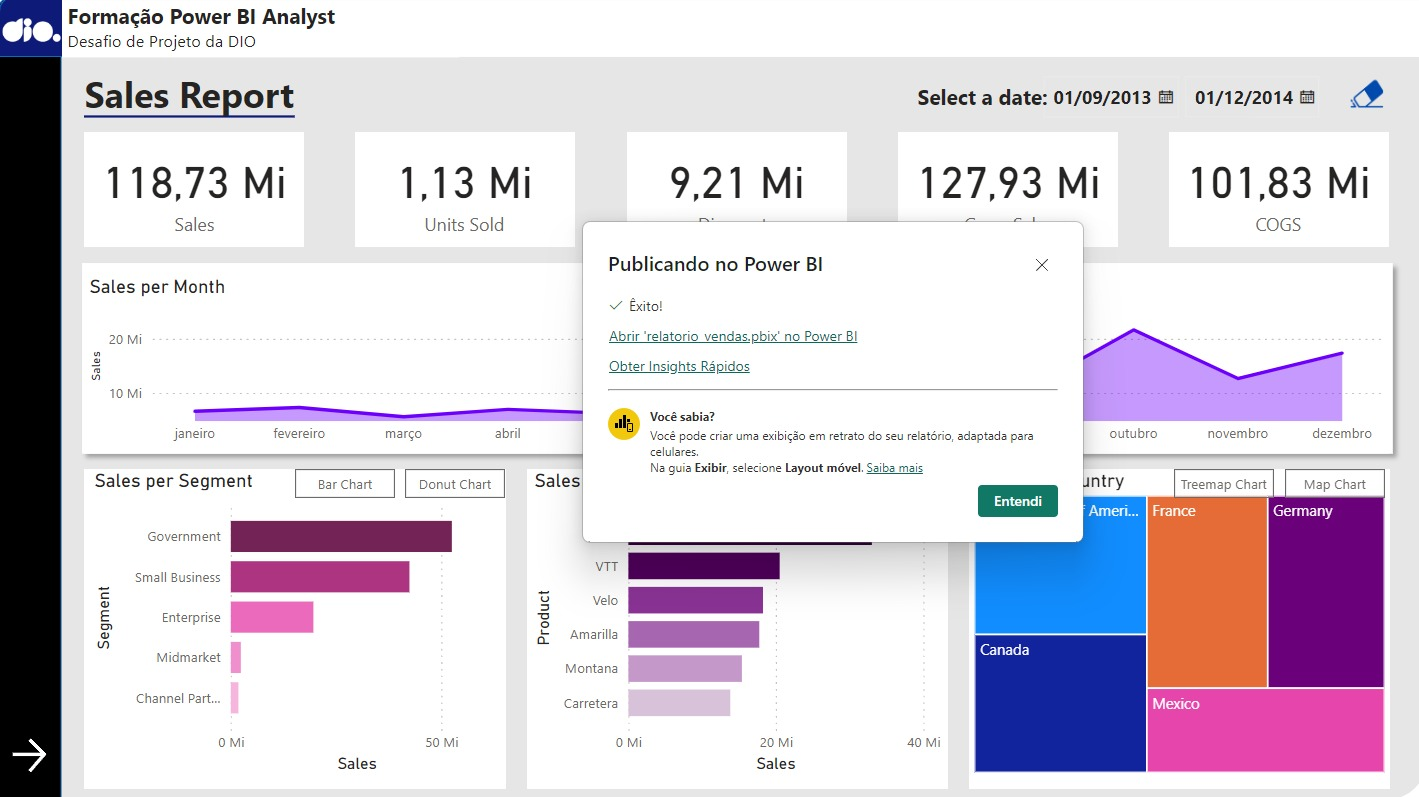

The dashboard page shown, as its layout file describes it:
{"tool":"powerbi","page":{"name":"Sales","canvas":[1280,720],"ordinal":0},"visuals":[{"type":"shape","box":[0,0,1280.4,719.6],"z":0},{"type":"image","title":"clear","box":[1206.2,68.1,41.2,39.2],"z":0,"group":"g2"},{"type":"shape","box":[78.4,121.6,197.3,103.1],"z":0,"group":"g1"},{"type":"map","title":"Sales per Country","fields":{"Category":["financials.Country"],"Size":["Sum(financials. Sales)"]},"box":[870.1,423.7,377.3,276.3],"z":0,"group":"g3"},{"type":"treemap","title":"Sales per Country","fields":{"Group":["financials.Country"],"Values":["Sum(financials. Sales)"]},"box":[870.4,423.6,377,276.7],"z":125,"group":"g3"},{"type":"actionButton","title":"button_treemap","box":[1054,423.6,89.6,26],"z":250,"group":"g3"},{"type":"actionButton","title":"button_map","box":[1153.4,423.6,89.6,26],"z":500,"group":"g3"},{"type":"shape","box":[0,0,57.7,719.6],"z":1000},{"type":"slicer","fields":{"Values":["financials.Date"]},"box":[924.8,61.9,268,54.6],"z":1000,"group":"g2"},{"type":"shape","box":[321.4,121.6,197.3,103.1],"z":1000,"group":"g1"},{"type":"clusteredBarChart","title":"Sales per Segment","fields":{"Category":["financials.Segment"],"Y":["Sum(financials. Sales)"]},"box":[82.5,423.7,373.2,276.3],"z":1250,"group":"g4"},{"type":"actionButton","title":"button_donut","box":[365.4,423.6,89.6,26],"z":1500,"group":"g4"},{"type":"shape","box":[2.1,0,57.7,54.6],"z":2000},{"type":"textbox","box":[819.6,72.2,135.1,36.1],"z":2000,"group":"g2"},{"type":"shape","box":[564.3,121.6,197.3,103.1],"z":2000,"group":"g1"},{"type":"actionButton","title":"button_bar","box":[266.9,423.6,89.6,26],"z":2000,"group":"g4"},{"type":"image","title":"logo_dio","box":[0,0,61.9,61.9],"z":3000},{"type":"actionButton","title":"clear_button","box":[1206.2,70.1,41.2,40.2],"z":3000,"group":"g2"},{"type":"shape","box":[807.3,121.6,197.3,103.1],"z":3000,"group":"g1"},{"type":"shape","box":[58.2,0,1221.8,54.5],"z":4000},{"type":"shape","box":[1050.2,121.6,197.3,103.1],"z":4000,"group":"g1"},{"type":"textbox","box":[58.2,0,354.5,54.5],"z":5000},{"type":"card","fields":{"Values":["Sum(financials.COGS)"]},"box":[1053.7,125.7,188.7,94.8],"z":5000,"group":"g1"},{"type":"group","id":"g1","title":"Cartões","box":[78.4,121.6,1169.1,103.1],"z":6000},{"type":"card","fields":{"Values":["Sum(financials.Discounts)"]},"box":[568.1,125.7,188.7,94.8],"z":6000,"group":"g1"},{"type":"shape","title":"underline","box":[78.4,101,188.7,13.4],"z":7000},{"type":"card","fields":{"Values":["Sum(financials. Sales)"]},"box":[82.5,125.7,188.7,94.8],"z":7000,"group":"g1"},{"type":"textbox","box":[73.2,59.8,208.2,61.9],"z":8000},{"type":"card","fields":{"Values":["Sum(financials.Units Sold)"]},"box":[324.8,125.7,188.7,94.8],"z":8000,"group":"g1"},{"type":"card","fields":{"Values":["Sum(financials.Gross Sales)"]},"box":[811.4,125.7,188.7,94.8],"z":9000,"group":"g1"},{"type":"shape","box":[67,229.9,1191.8,188.7],"z":9000},{"type":"shape","box":[77.9,423.6,377.9,286.6],"z":10000},{"type":"shape","box":[474.6,423.6,377,286.6],"z":11000},{"type":"shape","box":[870.4,423.6,377,286.6],"z":12000},{"type":"areaChart","title":"Sales per Month","fields":{"Category":["financials.Date.Variation.Hierarquia de datas.Mês"],"Y":["Sum(financials. Sales)"]},"box":[78.4,249.5,1169.1,159.8],"z":13000},{"type":"clusteredBarChart","title":"Sales per Product","fields":{"Category":["financials.Product"],"Y":["Sum(financials. Sales)"]},"box":[476.3,423.7,373.2,276.3],"z":14000},{"type":"group","id":"g2","title":"Filtro por data","box":[819.6,61.9,427.8,54.6],"z":15000},{"type":"group","id":"g3","title":"Sales per Country","box":[870.1,423.6,377.4,276.7],"z":16000},{"type":"group","id":"g4","title":"Sales per Segment","box":[82.4,423.6,373.4,276.7],"z":17000},{"type":"actionButton","title":"next_page","box":[8.1,660,45.7,40.3],"z":18000}]}

Visuals, with their boxes on the page's 1280x720 design canvas (x1, y1, x2, y2). These are canvas units, not pixel positions in the 1419x797 screenshot, which may show the page scaled, cropped or inside an application window:
shape: {"x1": 0, "y1": 0, "x2": 1280, "y2": 720}
"clear" image: {"x1": 1206, "y1": 68, "x2": 1247, "y2": 107}
shape: {"x1": 78, "y1": 122, "x2": 276, "y2": 225}
"Sales per Country" map: {"x1": 870, "y1": 424, "x2": 1247, "y2": 700}
"Sales per Country" treemap: {"x1": 870, "y1": 424, "x2": 1247, "y2": 700}
"button_treemap" actionButton: {"x1": 1054, "y1": 424, "x2": 1144, "y2": 450}
"button_map" actionButton: {"x1": 1153, "y1": 424, "x2": 1243, "y2": 450}
shape: {"x1": 0, "y1": 0, "x2": 58, "y2": 720}
slicer - financials.Date: {"x1": 925, "y1": 62, "x2": 1193, "y2": 116}
shape: {"x1": 321, "y1": 122, "x2": 519, "y2": 225}
"Sales per Segment" clusteredBarChart: {"x1": 82, "y1": 424, "x2": 456, "y2": 700}
"button_donut" actionButton: {"x1": 365, "y1": 424, "x2": 455, "y2": 450}
shape: {"x1": 2, "y1": 0, "x2": 60, "y2": 55}
textbox: {"x1": 820, "y1": 72, "x2": 955, "y2": 108}
shape: {"x1": 564, "y1": 122, "x2": 762, "y2": 225}
"button_bar" actionButton: {"x1": 267, "y1": 424, "x2": 356, "y2": 450}
"logo_dio" image: {"x1": 0, "y1": 0, "x2": 62, "y2": 62}
"clear_button" actionButton: {"x1": 1206, "y1": 70, "x2": 1247, "y2": 110}
shape: {"x1": 807, "y1": 122, "x2": 1005, "y2": 225}
shape: {"x1": 58, "y1": 0, "x2": 1280, "y2": 54}
shape: {"x1": 1050, "y1": 122, "x2": 1248, "y2": 225}
textbox: {"x1": 58, "y1": 0, "x2": 413, "y2": 54}
card - Sum(financials.COGS): {"x1": 1054, "y1": 126, "x2": 1242, "y2": 220}
"Cartões" group: {"x1": 78, "y1": 122, "x2": 1248, "y2": 225}
card - Sum(financials.Discounts): {"x1": 568, "y1": 126, "x2": 757, "y2": 220}
"underline" shape: {"x1": 78, "y1": 101, "x2": 267, "y2": 114}
card - Sum(financials. Sales): {"x1": 82, "y1": 126, "x2": 271, "y2": 220}
textbox: {"x1": 73, "y1": 60, "x2": 281, "y2": 122}
card - Sum(financials.Units Sold): {"x1": 325, "y1": 126, "x2": 514, "y2": 220}
card - Sum(financials.Gross Sales): {"x1": 811, "y1": 126, "x2": 1000, "y2": 220}
shape: {"x1": 67, "y1": 230, "x2": 1259, "y2": 419}
shape: {"x1": 78, "y1": 424, "x2": 456, "y2": 710}
shape: {"x1": 475, "y1": 424, "x2": 852, "y2": 710}
shape: {"x1": 870, "y1": 424, "x2": 1247, "y2": 710}
"Sales per Month" areaChart: {"x1": 78, "y1": 250, "x2": 1248, "y2": 409}
"Sales per Product" clusteredBarChart: {"x1": 476, "y1": 424, "x2": 850, "y2": 700}
"Filtro por data" group: {"x1": 820, "y1": 62, "x2": 1247, "y2": 116}
"Sales per Country" group: {"x1": 870, "y1": 424, "x2": 1248, "y2": 700}
"Sales per Segment" group: {"x1": 82, "y1": 424, "x2": 456, "y2": 700}
"next_page" actionButton: {"x1": 8, "y1": 660, "x2": 54, "y2": 700}
